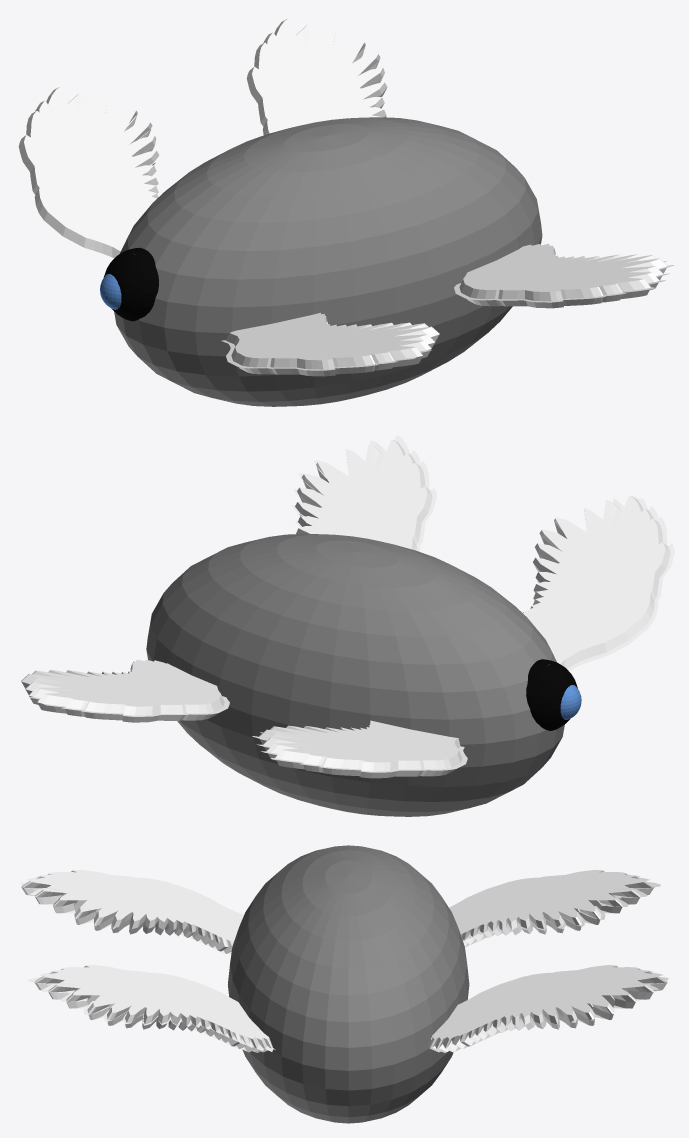
Rendered from Lava_Mini.fbx.
3 views of the same model, one above another, from view 1: azimuth 30°, elevation 25°; view 2: azimuth 150°, elevation 25°; view 3: azimuth 270°, elevation 25° (orthographic). The views are drawn at different scales.
Visible parts, largest first — view 1: Sphere.001; view 2: Sphere.001; view 3: Sphere.001.
Boxes of the visible parts, <box> form: Sphere.001: <box>14,18,674,406</box>; Sphere.001: <box>21,435,674,816</box>; Sphere.001: <box>20,845,668,1123</box>.
Size of the model in its own units: 356 by 200 by 547.
